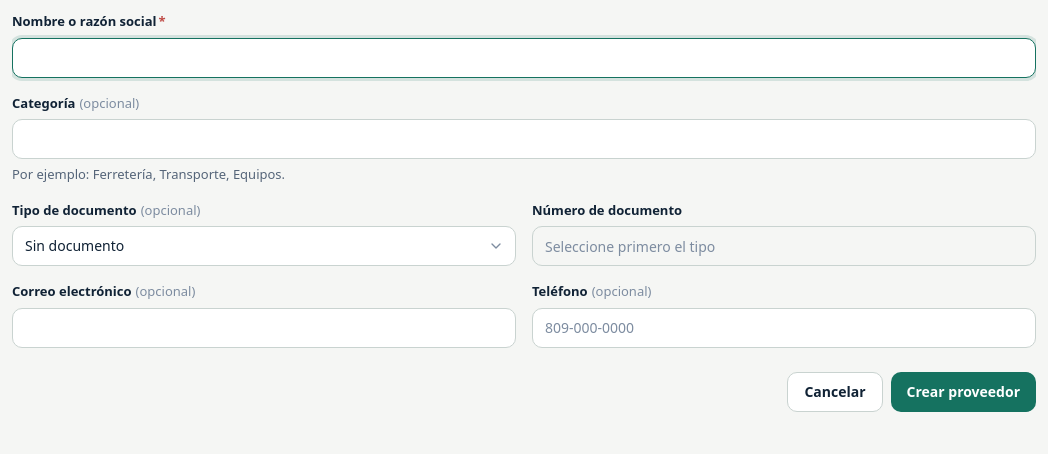
Test: SupplierForm › validates the RNC of the supplier
Type "Ferretería Norte" into the field labelled "Nombre o razón social*" at (524, 58), box [12,38,1036,78]
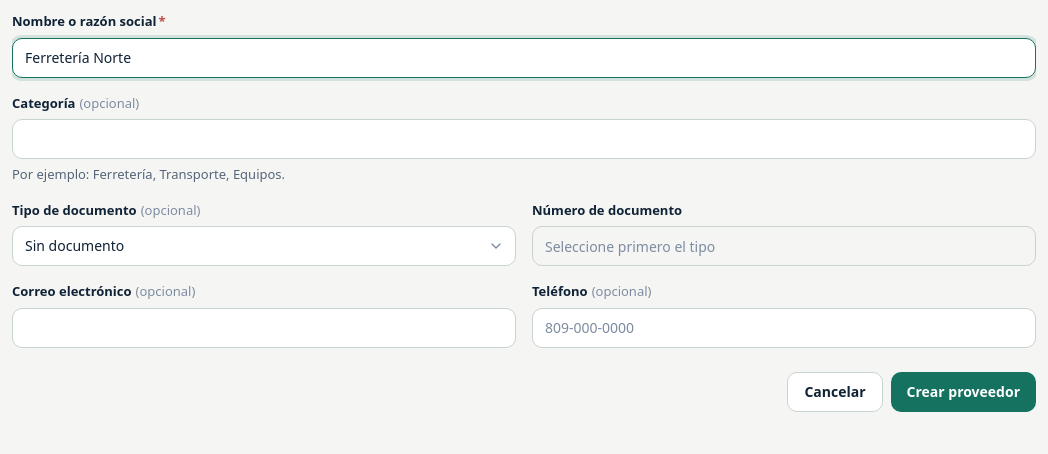
Select "RNC" in the dropdown labelled "Tipo de documento(opcional)" at (264, 246), box [12,226,516,266]
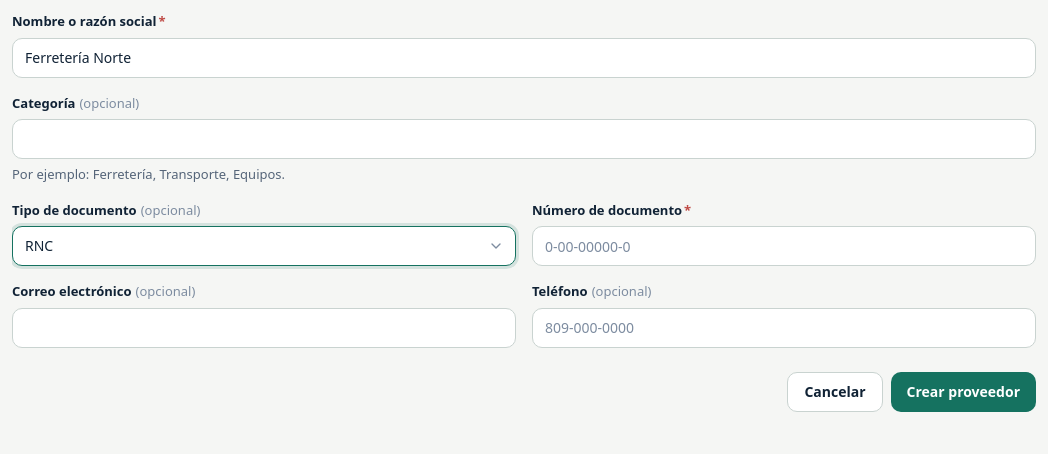
Type "12345" into the field labelled "Número de documento*" at (784, 246), box [532,226,1036,266]
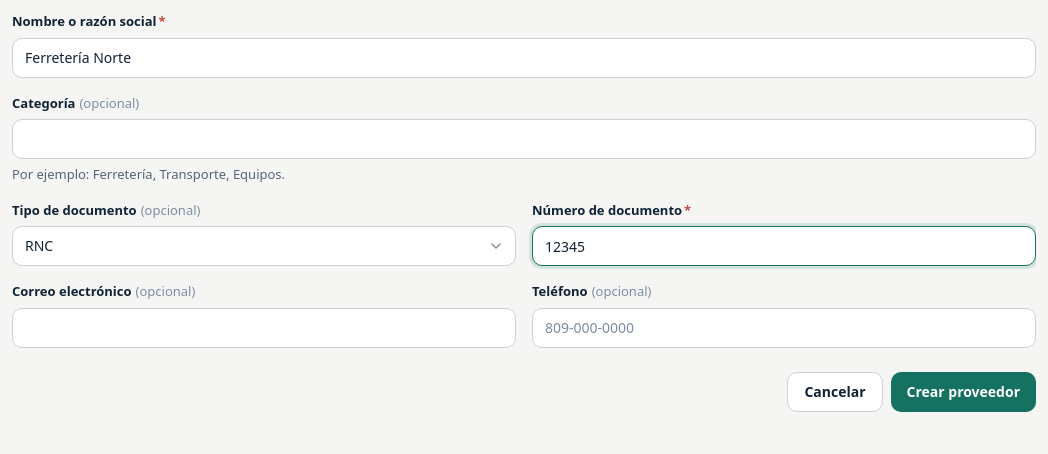
Click the button "Crear proveedor" at (963, 392), box [890,372,1036,412]
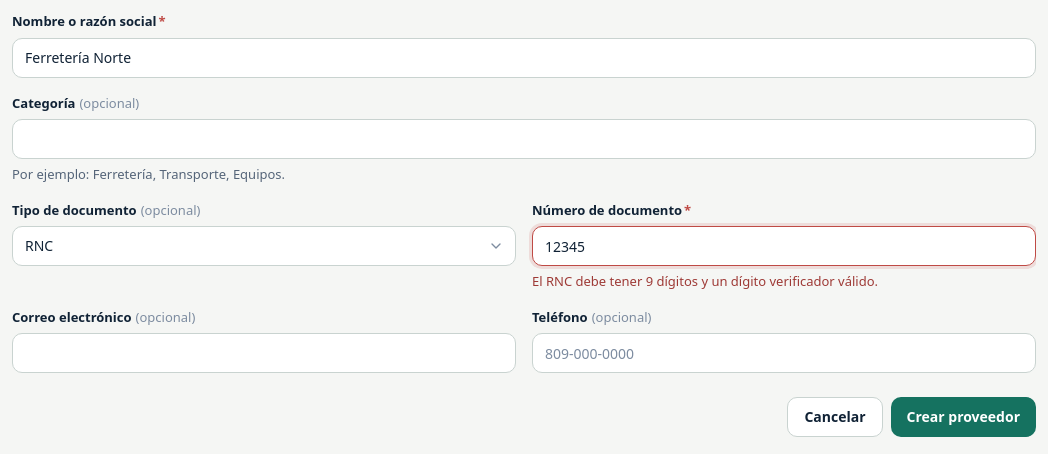
Now the text "El RNC debe tener 9 dígitos y un dígito verificador válido." is shown, box [532,272,878,290]
